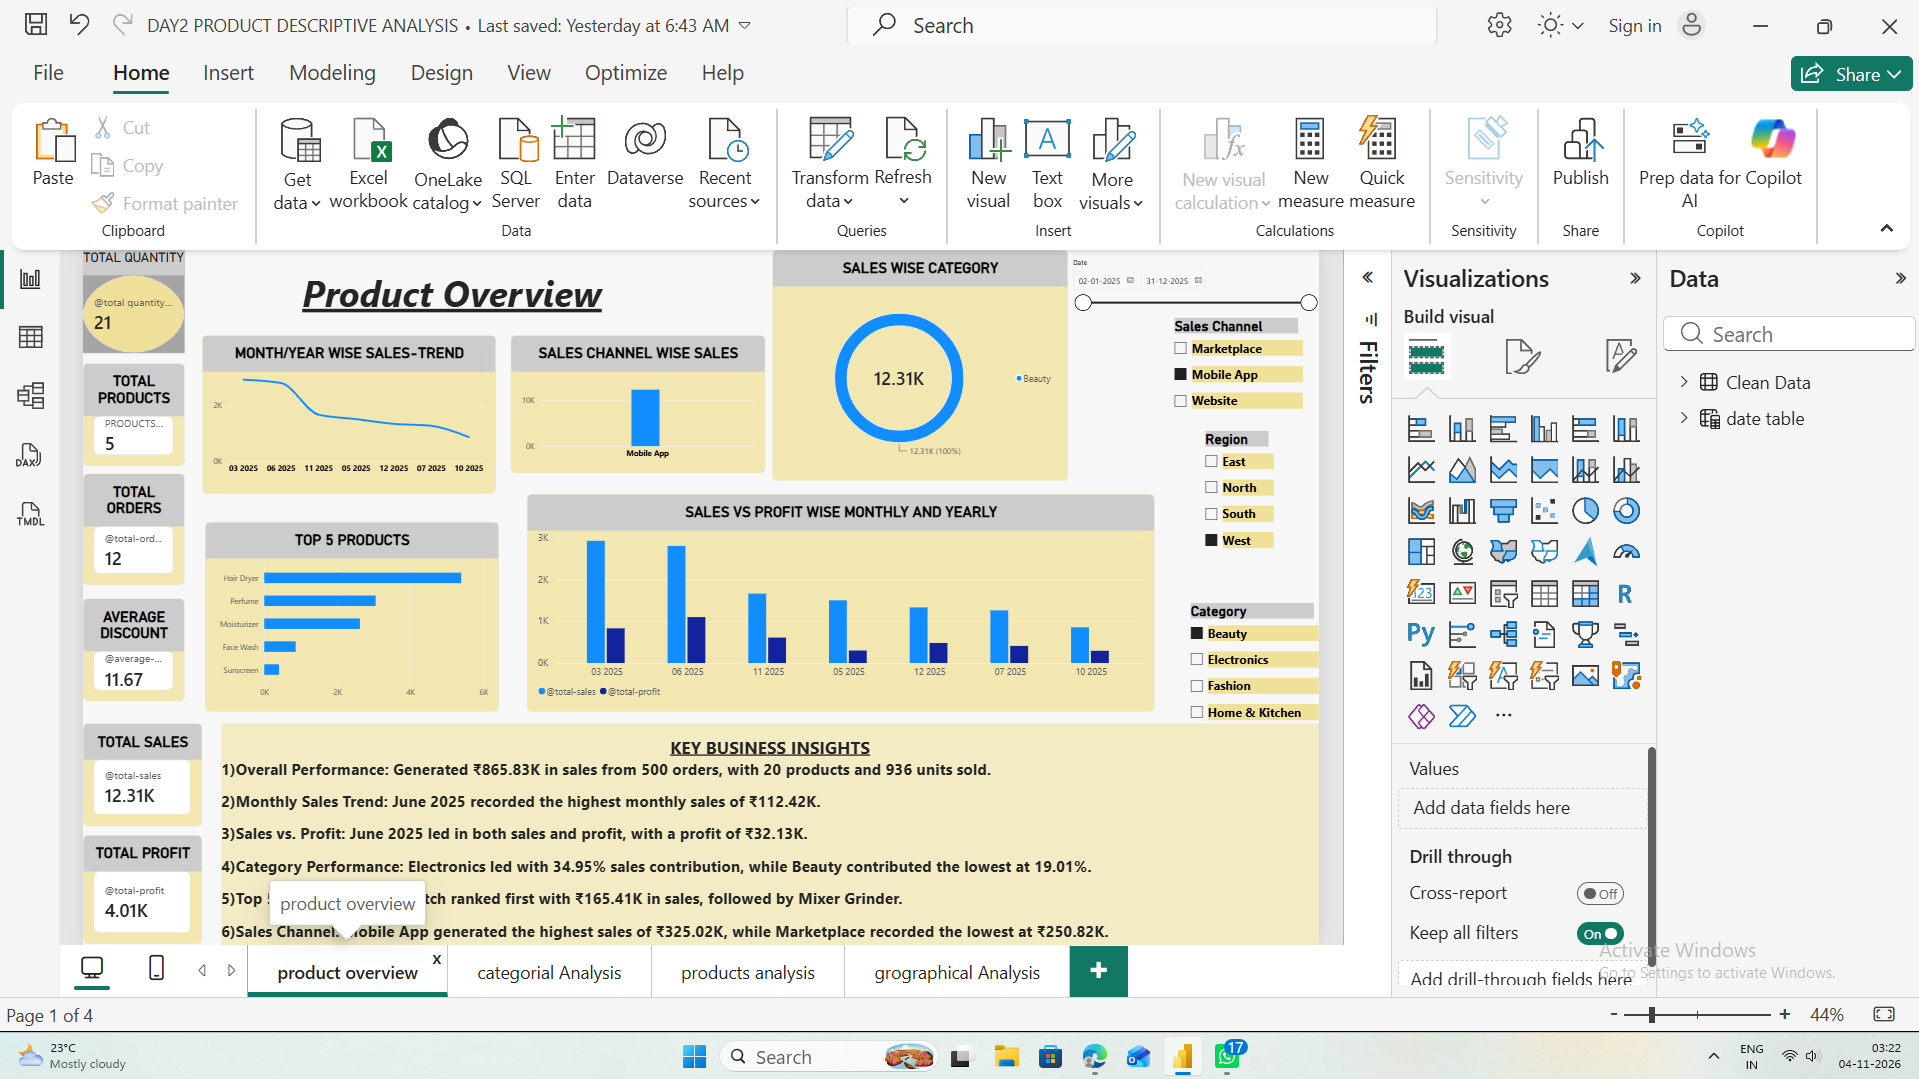

This screenshot's page, from the dashboard's own definition file:
{"tool":"powerbi","page":{"name":"product overview","canvas":[1920,1080],"ordinal":0},"visuals":[{"type":"cardVisual","title":"AVERAGE DISCOUNT","fields":{"Data":["Clean Data.@average-discount"]},"box":[0,541.1,157.5,159.8],"z":0},{"type":"cardVisual","title":"TOTAL QUANTITY","fields":{"Data":["Clean Data.@total quantity sold"]},"box":[0,0,157.5,159.8],"z":1000},{"type":"slicer","fields":{"Values":["Clean Data.Sales Channel"]},"box":[1687.1,105,207.8,219.2],"z":2000},{"type":"slicer","fields":{"Values":["Clean Data.Region"]},"box":[1735.1,280.8,114.1,196.3],"z":3000},{"type":"slicer","fields":{"Values":["Clean Data.Category"]},"box":[1712.2,547.9,207,196.2],"z":4000},{"type":"slicer","fields":{"Values":["date table.Date"]},"box":[1529.6,13.7,390.4,132.4],"z":5000},{"type":"cardVisual","title":"TOTAL ORDERS","fields":{"Data":["Clean Data.@total-orders"]},"box":[0,347,157.5,173.5],"z":6000},{"type":"cardVisual","title":"TOTAL PROFIT","fields":{"Data":["Clean Data.@total-profit"]},"box":[0,908.6,184.9,168.9],"z":7000},{"type":"cardVisual","title":"TOTAL SALES","fields":{"Data":["Clean Data.@total-sales"]},"box":[0,735.1,184.9,159.8],"z":8000},{"type":"cardVisual","title":"TOTAL PRODUCTS","fields":{"Data":["Clean Data.PRODUCTS SOLD"]},"box":[0,175.8,157.5,159.8],"z":9000},{"type":"lineChart","title":"MONTH/YEAR WISE SALES-TREND","fields":{"Category":["date table.YEAR-MONTH"],"Y":["Clean Data.@total-sales"]},"box":[184.9,132.4,456.6,246.6],"z":10000},{"type":"clusteredColumnChart","title":"SALES VS PROFIT WISE MONTHLY AND YEARLY","fields":{"Category":["date table.YEAR-MONTH"],"Y":["Clean Data.@total-sales","Clean Data.@total-profit"]},"box":[689.5,379,974.8,337.9],"z":11000},{"type":"donutChart","title":"SALES WISE CATEGORY","fields":{"Category":["Clean Data.Category"],"Y":["Clean Data.@total-sales"]},"box":[1070.7,0,458.9,358.4],"z":12000},{"type":"barChart","title":"TOP 5 PRODUCTS","fields":{"Category":["Clean Data.Product Name"],"Y":["Clean Data.@total-sales"]},"box":[189.5,422.4,456.6,294.5],"z":13000},{"type":"clusteredColumnChart","title":"SALES CHANNEL WISE SALES","fields":{"Category":["Clean Data.Sales Channel"],"Y":["Clean Data.@total-sales"]},"box":[664.4,132.4,395,214.6],"z":14000},{"type":"textbox","box":[187.2,27.4,771.7,79.9],"z":15000},{"type":"textbox","box":[214.6,735.1,1705.4,344.7],"z":16000}]}

Visuals, with their boxes on the page's 1920x1080 design canvas (x1, y1, x2, y2). These are canvas units, not pixel positions in the 1919x1079 screenshot, which may show the page scaled, cropped or inside an application window:
"AVERAGE DISCOUNT" cardVisual: [0,541,158,701]
"TOTAL QUANTITY" cardVisual: [0,0,158,160]
slicer - Clean Data.Sales Channel: [1687,105,1895,324]
slicer - Clean Data.Region: [1735,281,1849,477]
slicer - Clean Data.Category: [1712,548,1919,744]
slicer - date table.Date: [1530,14,1920,146]
"TOTAL ORDERS" cardVisual: [0,347,158,520]
"TOTAL PROFIT" cardVisual: [0,909,185,1078]
"TOTAL SALES" cardVisual: [0,735,185,895]
"TOTAL PRODUCTS" cardVisual: [0,176,158,336]
"MONTH/YEAR WISE SALES-TREND" lineChart: [185,132,642,379]
"SALES VS PROFIT WISE MONTHLY AND YEARLY" clusteredColumnChart: [690,379,1664,717]
"SALES WISE CATEGORY" donutChart: [1071,0,1530,358]
"TOP 5 PRODUCTS" barChart: [190,422,646,717]
"SALES CHANNEL WISE SALES" clusteredColumnChart: [664,132,1059,347]
textbox: [187,27,959,107]
textbox: [215,735,1920,1080]
